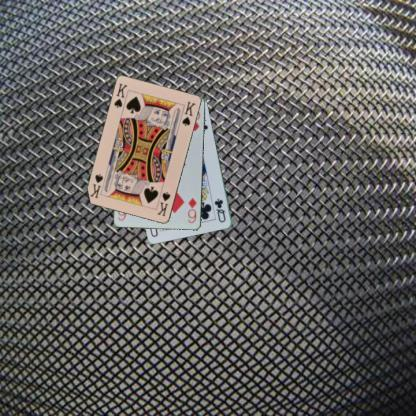6d: (186, 195, 198, 224)
Ks: (154, 189, 172, 218), (111, 81, 129, 109)
Qc: (212, 196, 227, 223)
